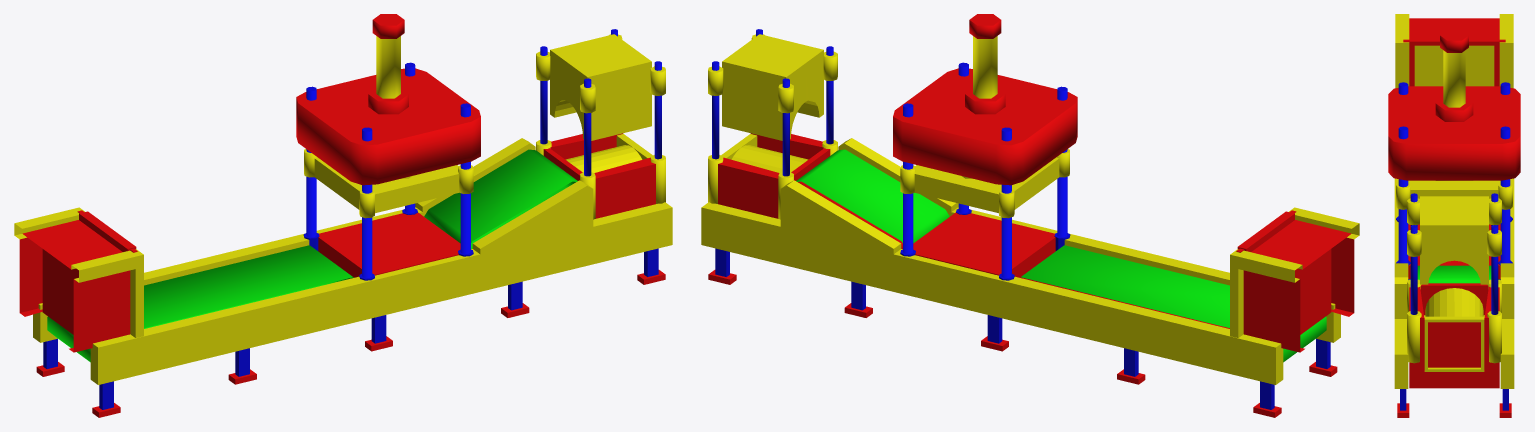
The model's file is Factory_Mechanism.fbx.
The picture shows the model from 3 angles, left to right: view 1: azimuth 30°, elevation 25°; view 2: azimuth 150°, elevation 25°; view 3: azimuth 270°, elevation 25°; orthographic projection. The views are drawn at different scales.
Parts seen in each view (by area): view 1: Cube.009; view 2: Cube.009; view 3: Cube.009.
Part boxes in pixels (box(x1,y1,x2,y2)): Cube.009: box(14, 14, 672, 417); Cube.009: box(701, 14, 1359, 417); Cube.009: box(1388, 14, 1520, 417).
Bounding box in the file's own units: 915 × 435 × 191.
